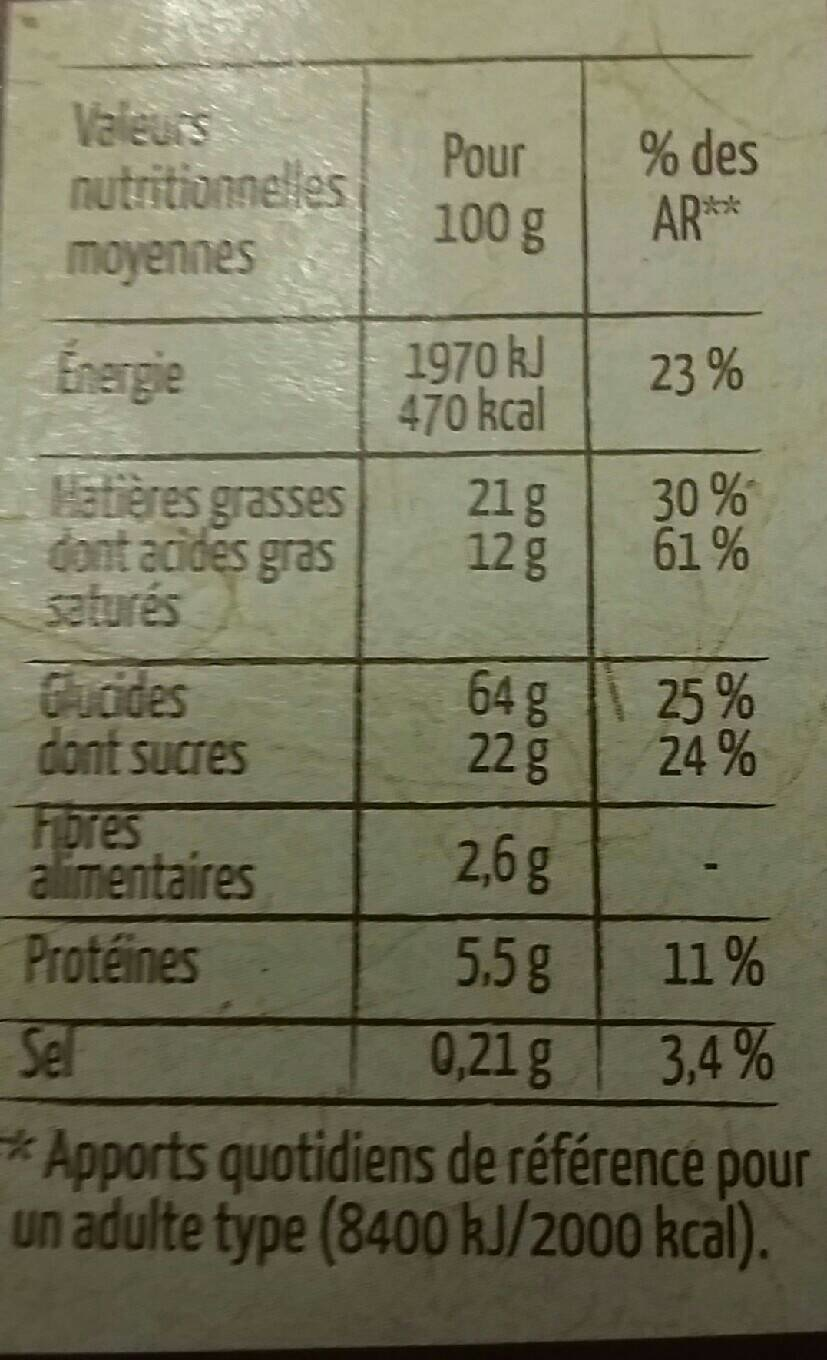column: (12, 69, 350, 1098), (373, 71, 589, 1098), (600, 67, 798, 1113)
table: (17, 64, 798, 1112)
